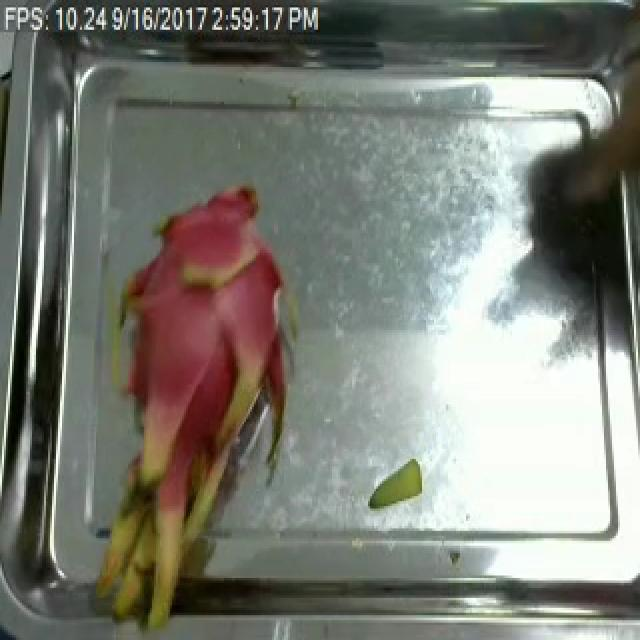fruit: (70, 201, 316, 632)
